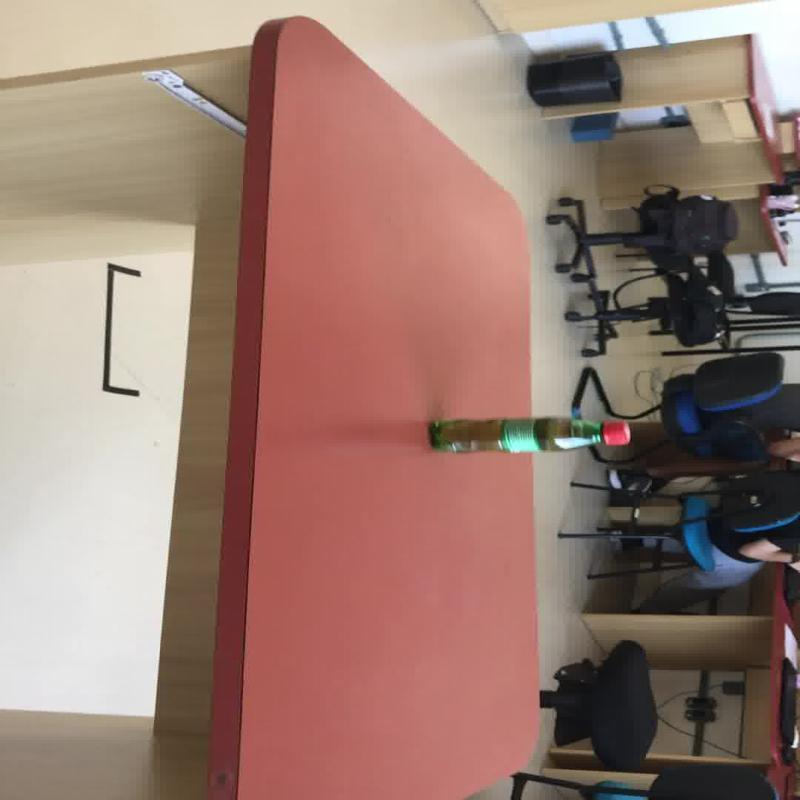guarana: (426, 415, 630, 453)
